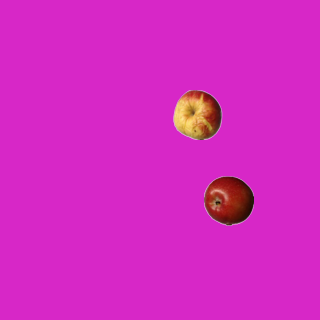Apple Braeburn: (203, 175, 253, 225)
Apple Red Yellow 1: (172, 89, 222, 139)
